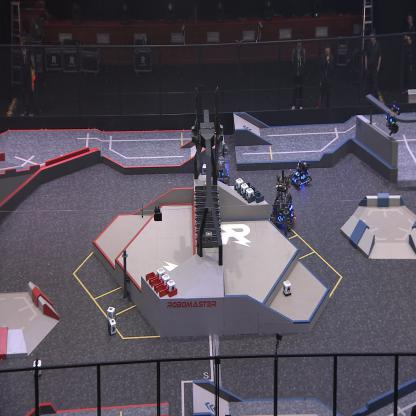car: (269, 174, 295, 232), (209, 151, 230, 185), (290, 158, 310, 188)
